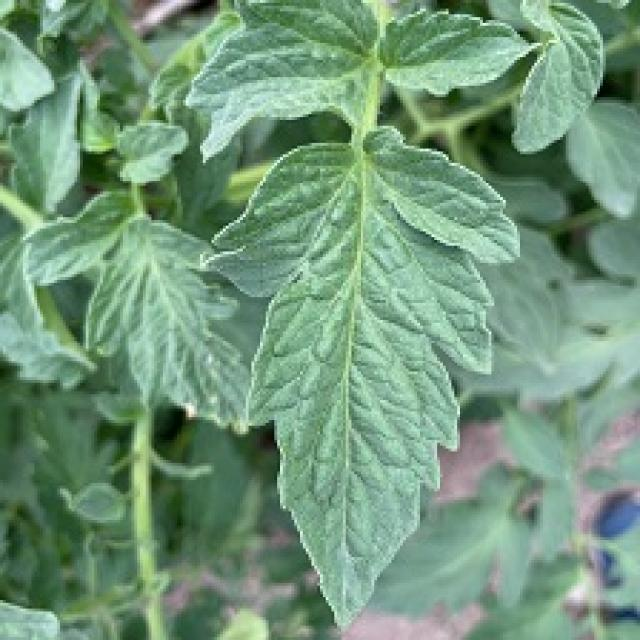Healthy: (186, 103, 592, 640), (187, 0, 376, 158), (380, 11, 533, 95)
